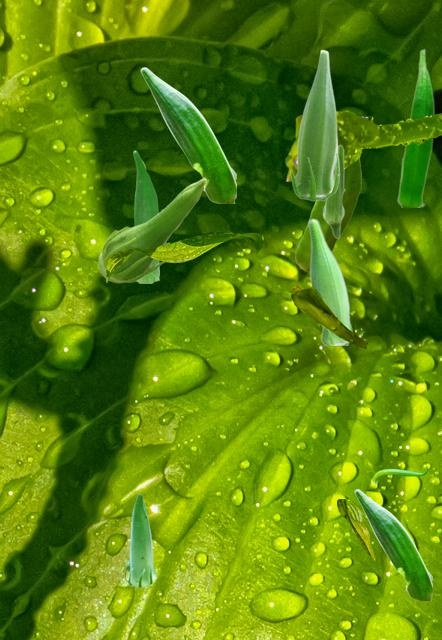okra: (140, 67, 235, 202), (98, 177, 206, 282), (354, 489, 431, 599), (290, 49, 339, 200), (295, 158, 360, 270), (397, 48, 434, 206), (307, 218, 351, 344), (133, 150, 158, 282), (124, 493, 156, 587), (322, 144, 344, 238), (371, 466, 426, 482)
